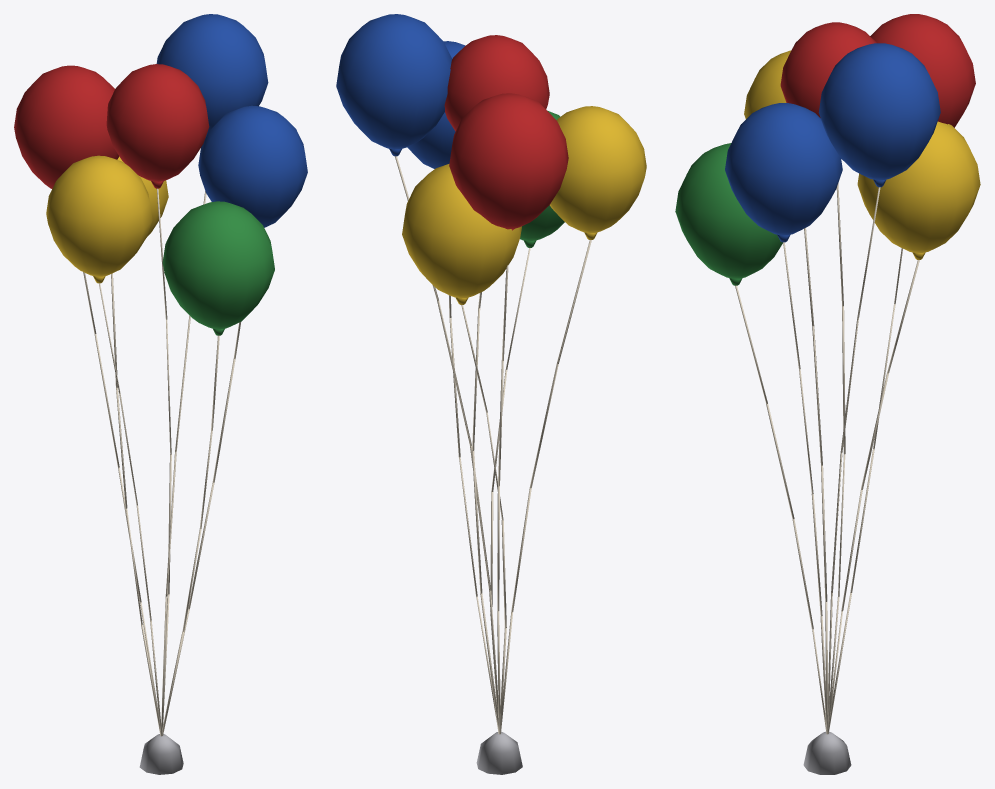
The model's file is CachoDeBaloes.fbx.
3 views of the same model, side by side, from view 1: azimuth 30°, elevation 25°; view 2: azimuth 150°, elevation 25°; view 3: azimuth 270°, elevation 25° (orthographic). The views are drawn at different scales.
Parts seen in each view (by area): view 1: CachoDeBaloes; view 2: CachoDeBaloes; view 3: CachoDeBaloes.
Part boxes in pixels (box(x1,y1,x2,y2)): CachoDeBaloes: box(14, 14, 307, 774); CachoDeBaloes: box(336, 14, 646, 774); CachoDeBaloes: box(675, 14, 980, 774).
Size of the model in its own units: 0.6845 by 1.91 by 0.7.
